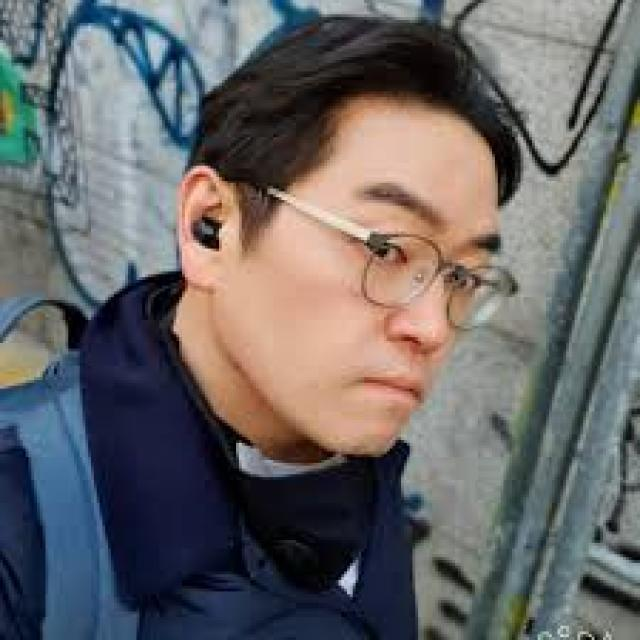earphone: (187, 197, 228, 265)
